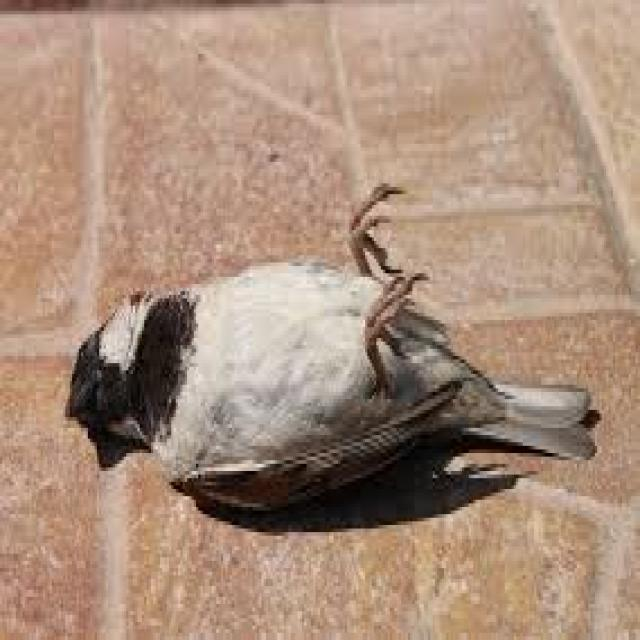Bangkai Burung: (74, 208, 598, 544)
